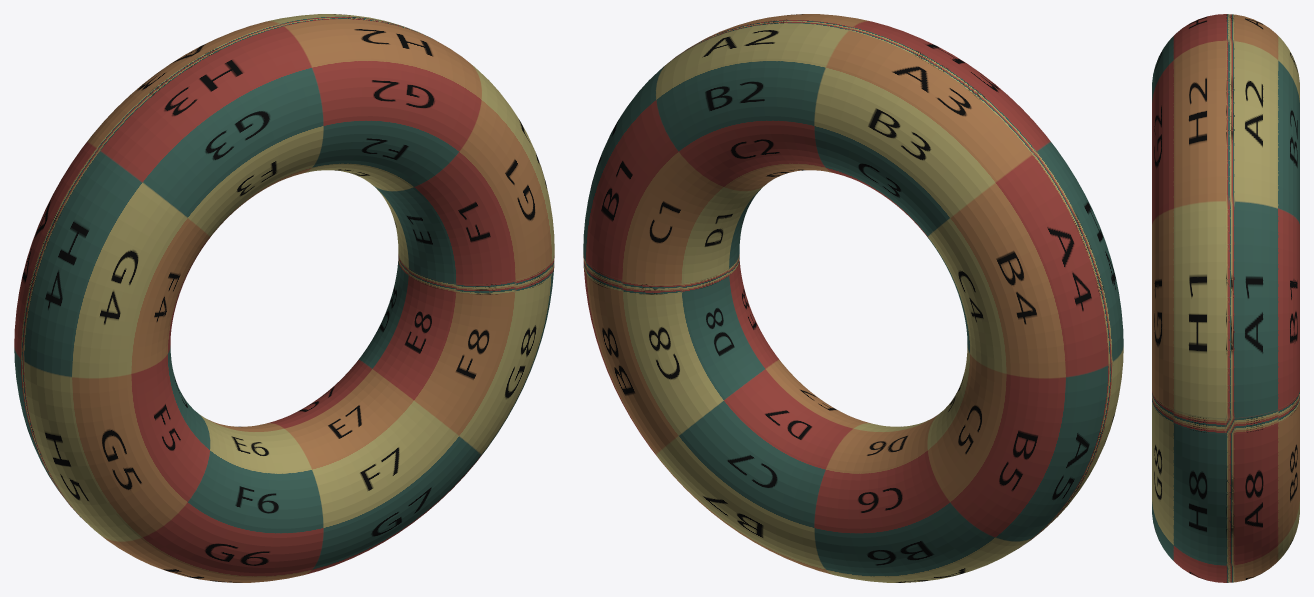
The model's file is texture_torus_R6_r7.glb.
3 renders of one model, left to right at view 1: azimuth 30°, elevation 25°; view 2: azimuth 150°, elevation 25°; view 3: azimuth 270°, elevation 25°, orthographic. The views are drawn at different scales.
Visible parts, largest first — view 1: world; view 2: world; view 3: world.
Boxes of the visible parts, <box> form: world: <box>14,14,554,582</box>; world: <box>583,14,1123,582</box>; world: <box>1152,14,1299,582</box>.
Bounding box in the file's own units: 31.56 × 31.56 × 8.21.
Materials: 1 (1 with a texture image).
